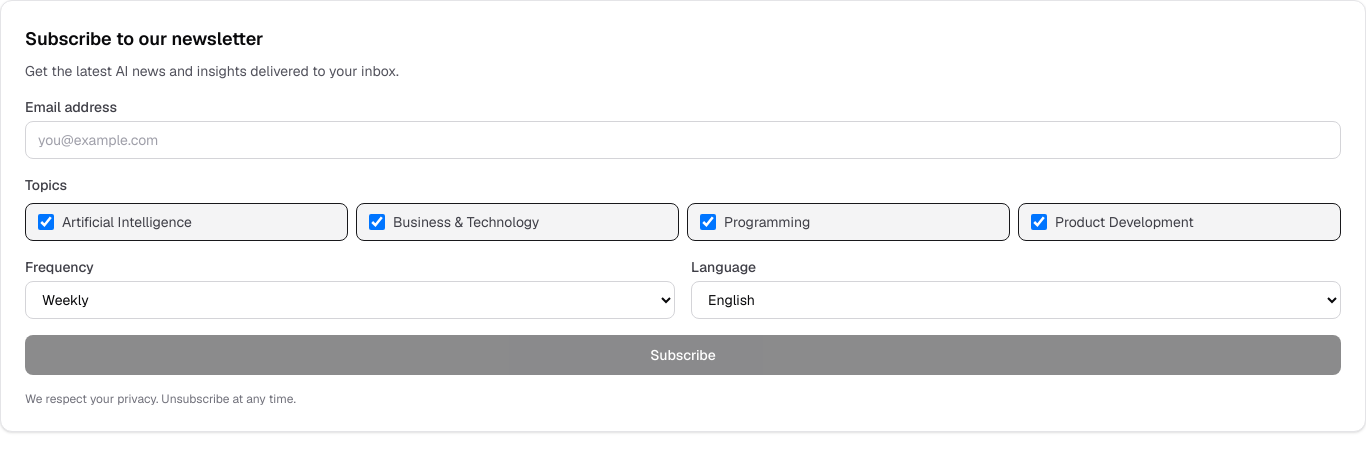
Scenario: SubscribeForm › subscribes successfully when already confirmed
Type "existing@example.com" into the field labelled "Email address".
click(683, 140); type("existing@example.com")  # box 25,121 -> 1341,159
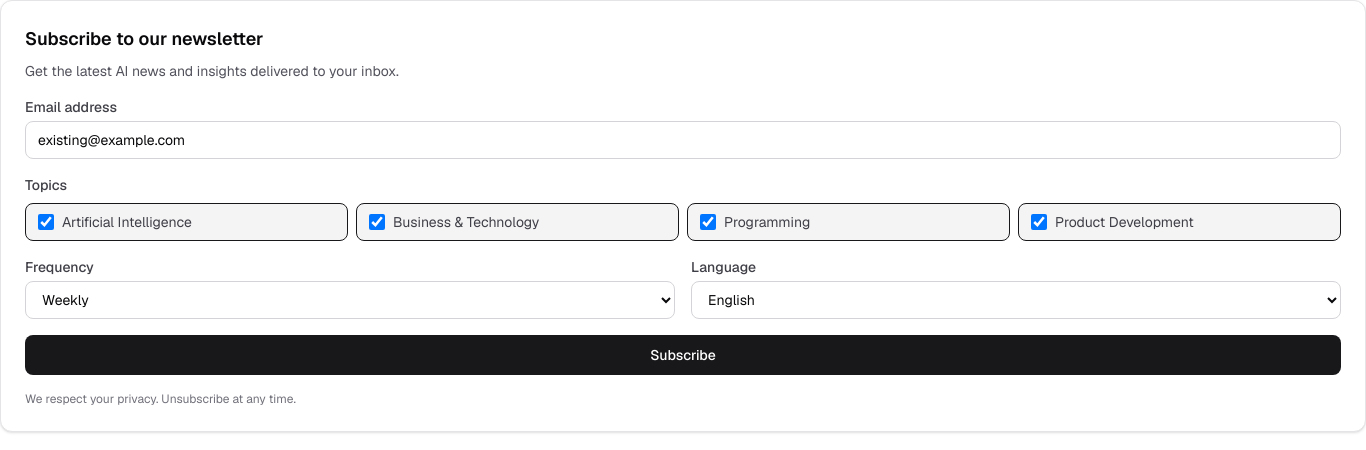
Click the button "Subscribe".
click(683, 355)  # box 25,335 -> 1341,375
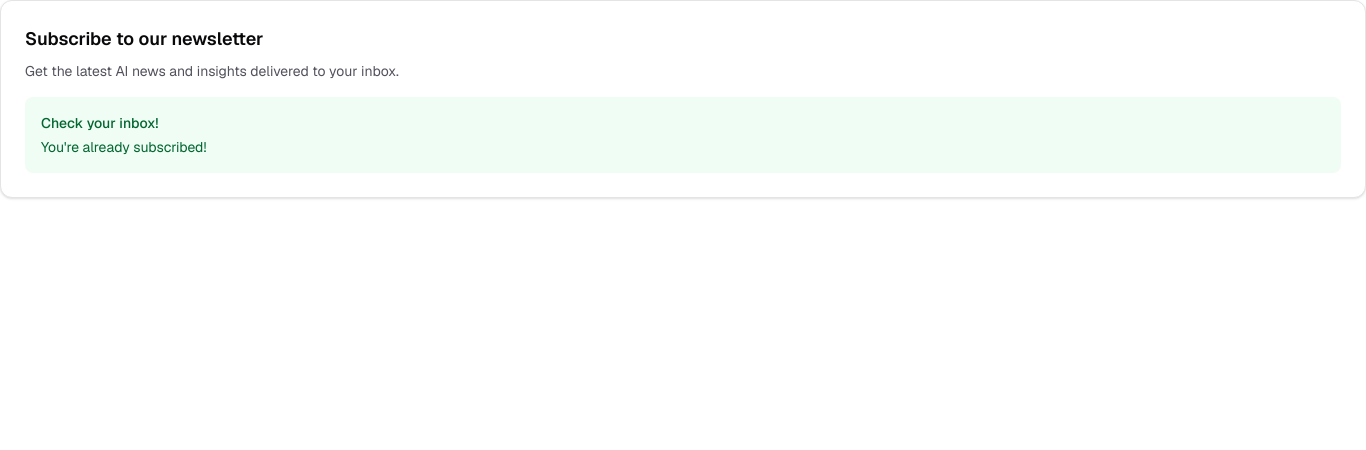
Check: the text "You're already subscribed!" is shown, box 41,138 -> 206,156
